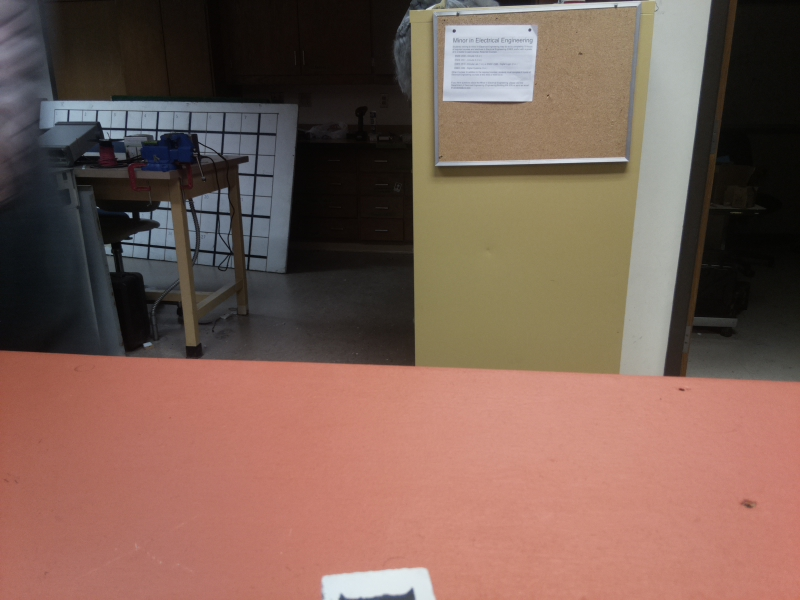blockD: (320, 568, 437, 598)
